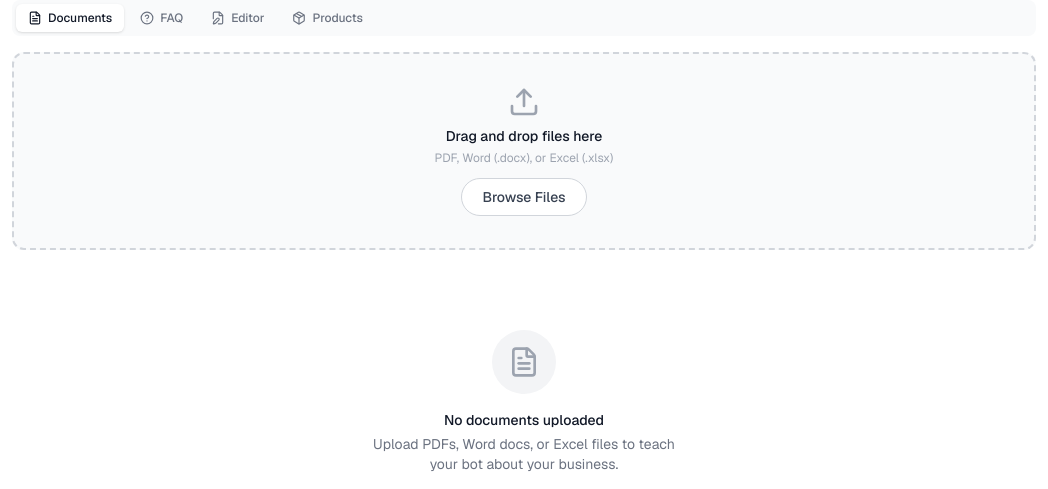
it: KnowledgePanel › switches to FAQ tab
The width and height of the screenshot is (1048, 489).
Click the button "FAQ" at (162, 18), box [128, 4, 195, 32]
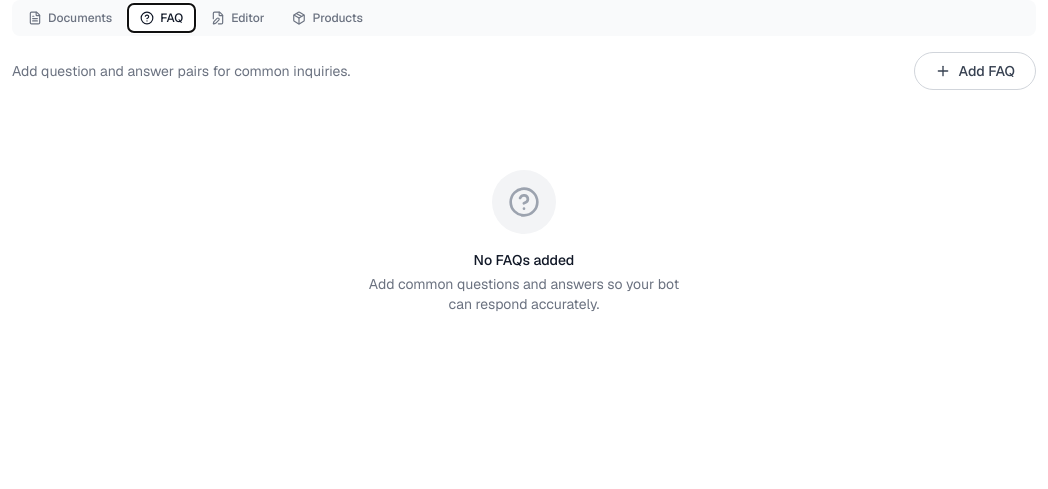
Check: the heading "No FAQs added" is shown, box [474, 250, 574, 270]
